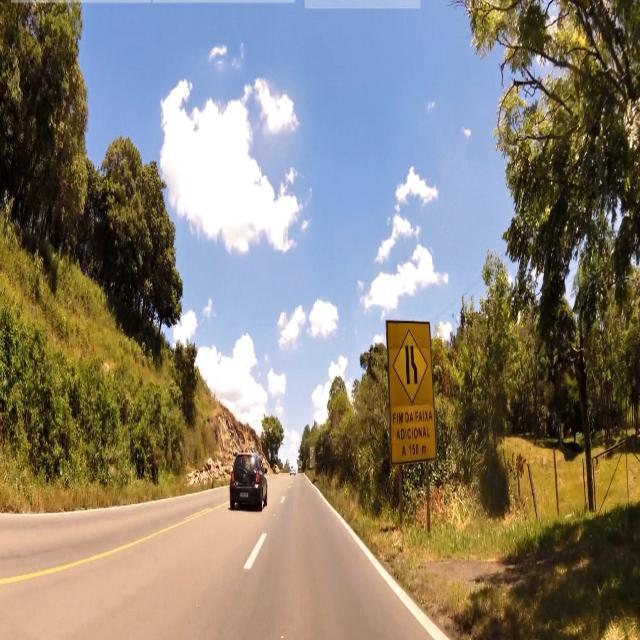A-21c: (391, 328, 431, 406)
